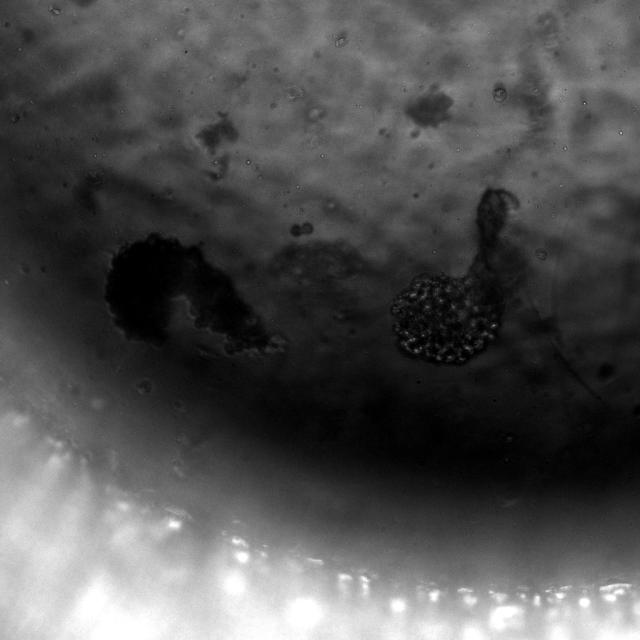organoid: (391, 188, 519, 364), (105, 234, 276, 353)
